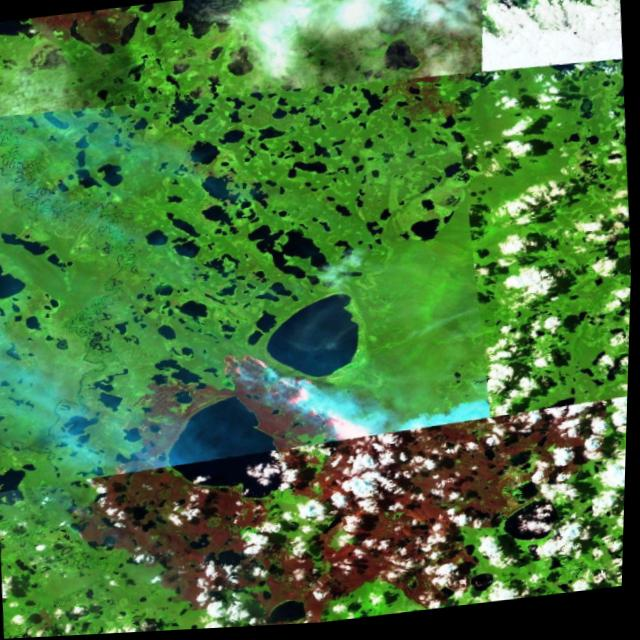fire: (208, 337, 377, 475)
